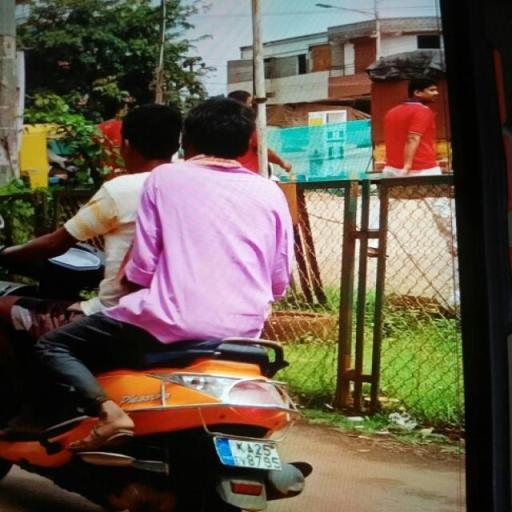bike: (3, 89, 330, 512)
numberplate: (220, 436, 282, 468)
withouthelmet: (186, 100, 256, 156), (124, 108, 179, 162)
